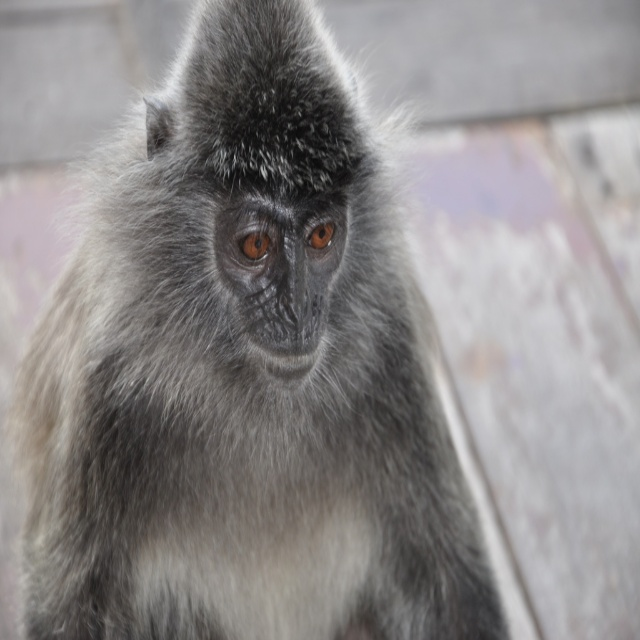Monkey: (16, 0, 515, 639)
